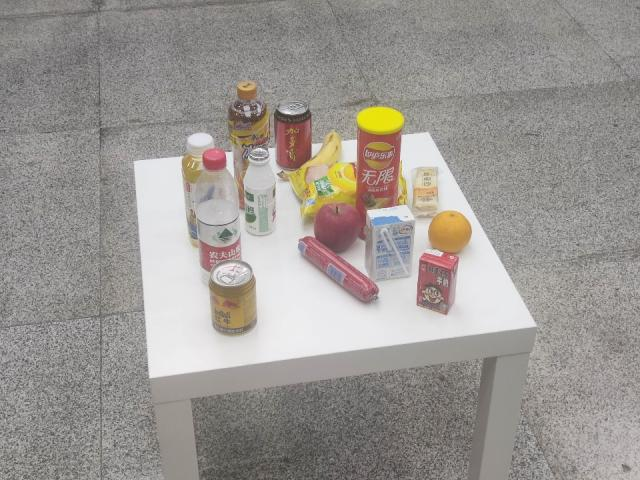Canned_drinks: (207, 259, 260, 336), (272, 98, 314, 168)
bottle: (183, 146, 248, 273)
cylinder: (352, 101, 402, 237)
drink_box: (362, 203, 420, 283), (414, 245, 463, 316)
